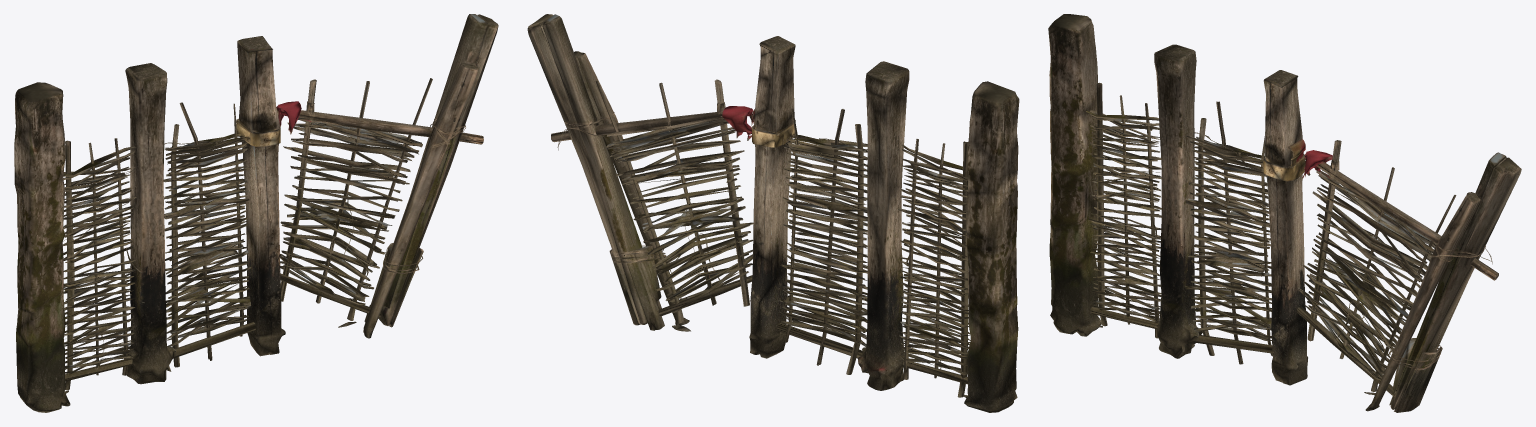
File: vil-fences.fbx
3 views of the same model, side by side, from view 1: azimuth 30°, elevation 25°; view 2: azimuth 150°, elevation 25°; view 3: azimuth 330°, elevation 25° (orthographic). The views are drawn at different scales.
Visible parts, largest first — view 1: Mesh_0; view 2: Mesh_0; view 3: Mesh_0.
Boxes of the visible parts, bbox=[...] form: Mesh_0: bbox=[14, 14, 498, 412]; Mesh_0: bbox=[527, 14, 1019, 412]; Mesh_0: bbox=[1048, 14, 1521, 412].
Size of the model in its own units: 95.31 by 60.74 by 9.67.
1 material, 1 textured.
